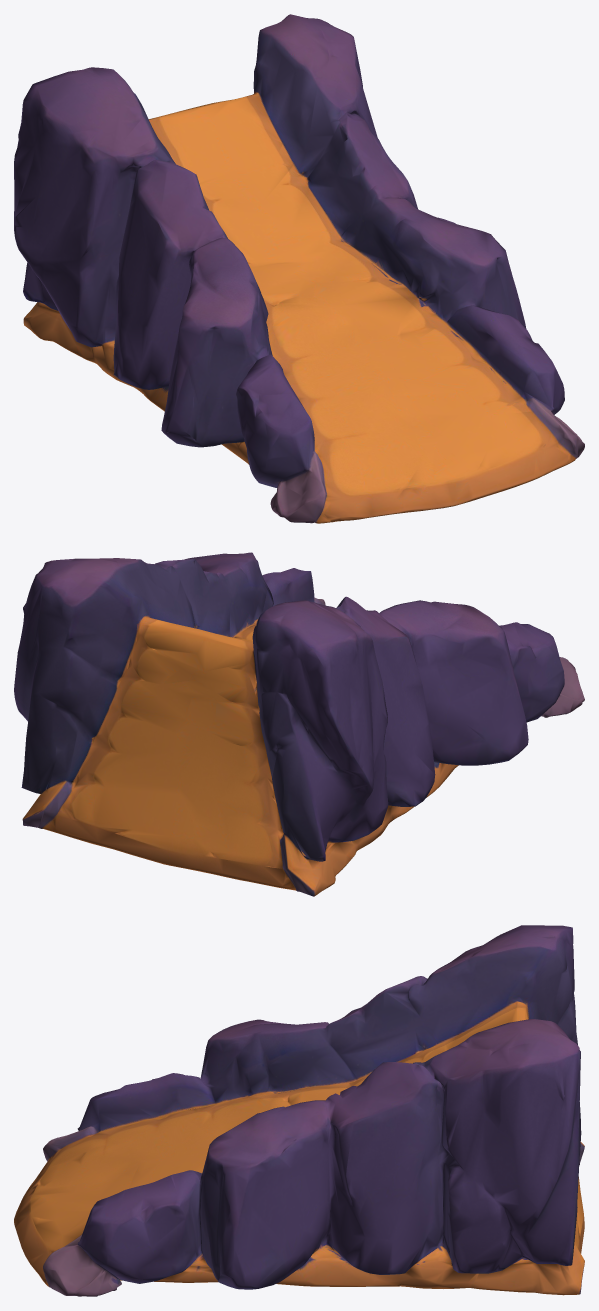
The model's file is escalera_de_roca.glb.
3 views of the same model, one above another, from view 1: azimuth 30°, elevation 25°; view 2: azimuth 150°, elevation 25°; view 3: azimuth 270°, elevation 25° (orthographic). The views are drawn at different scales.
Visible parts, largest first — view 1: escalera_de_roca; view 2: escalera_de_roca; view 3: escalera_de_roca.
Boxes of the visible parts, x1=… form: escalera_de_roca: x1=14, y1=14, x2=584, y2=523; escalera_de_roca: x1=14, y1=552, x2=584, y2=896; escalera_de_roca: x1=14, y1=925, x2=584, y2=1296.
Size of what is drawn, in the model's own units: 2.1 by 1.44 by 3.
Materials: 1 (1 with a texture image).
